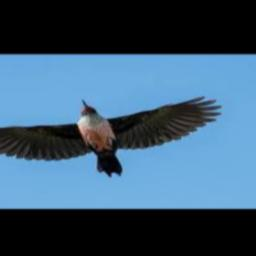Woodpecker: (0, 97, 221, 177)
